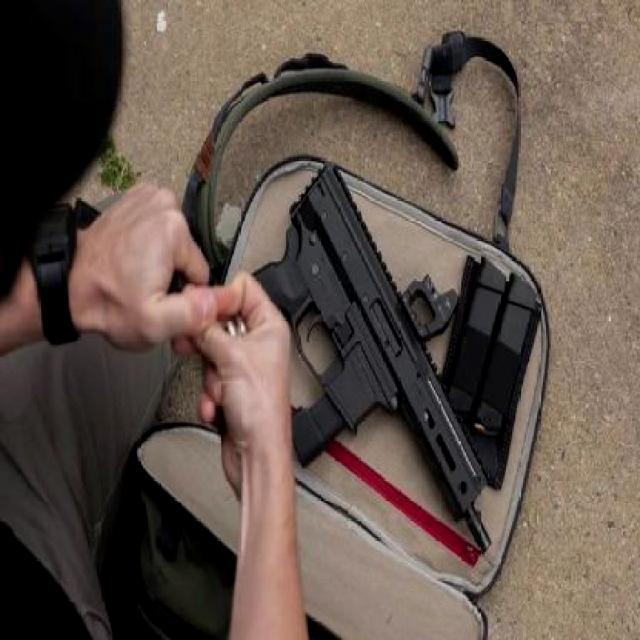hand_noglove: (175, 271, 291, 497), (86, 178, 216, 353)
